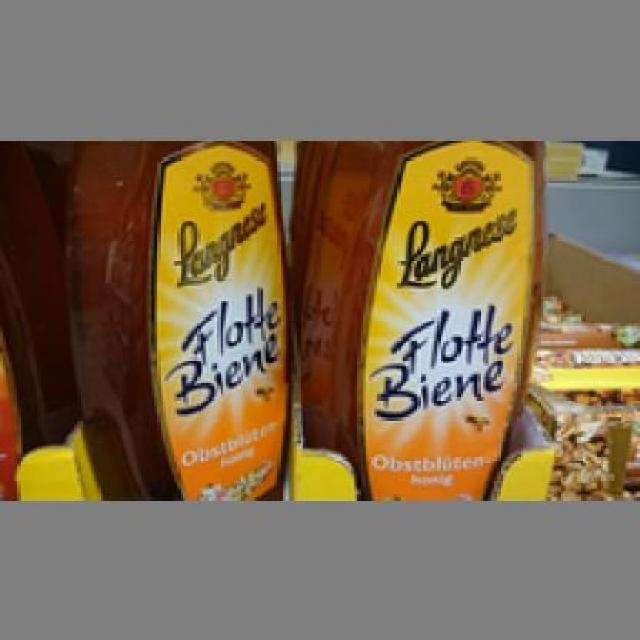Honey: (300, 137, 549, 494), (60, 134, 289, 497)
